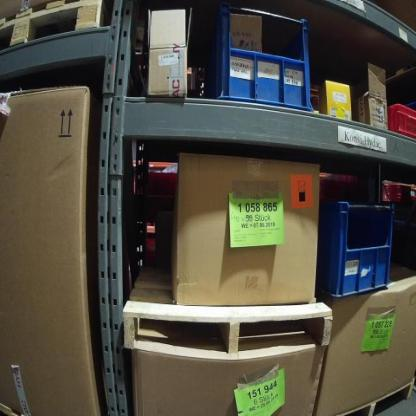pallet: (121, 265, 333, 362), (1, 0, 104, 53), (341, 379, 416, 416)
small_load_carrier: (206, 5, 319, 112), (320, 190, 399, 300), (383, 97, 415, 144)
